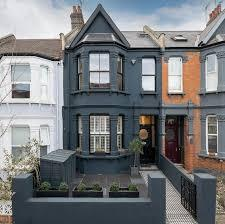casa: (10, 9, 214, 191)
